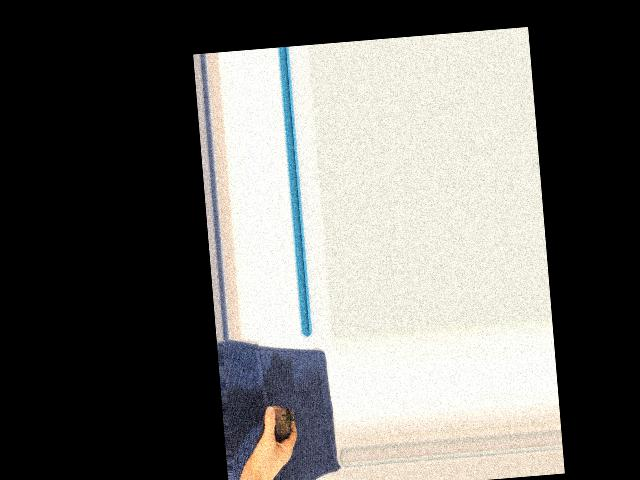beet: (249, 403, 295, 443)
